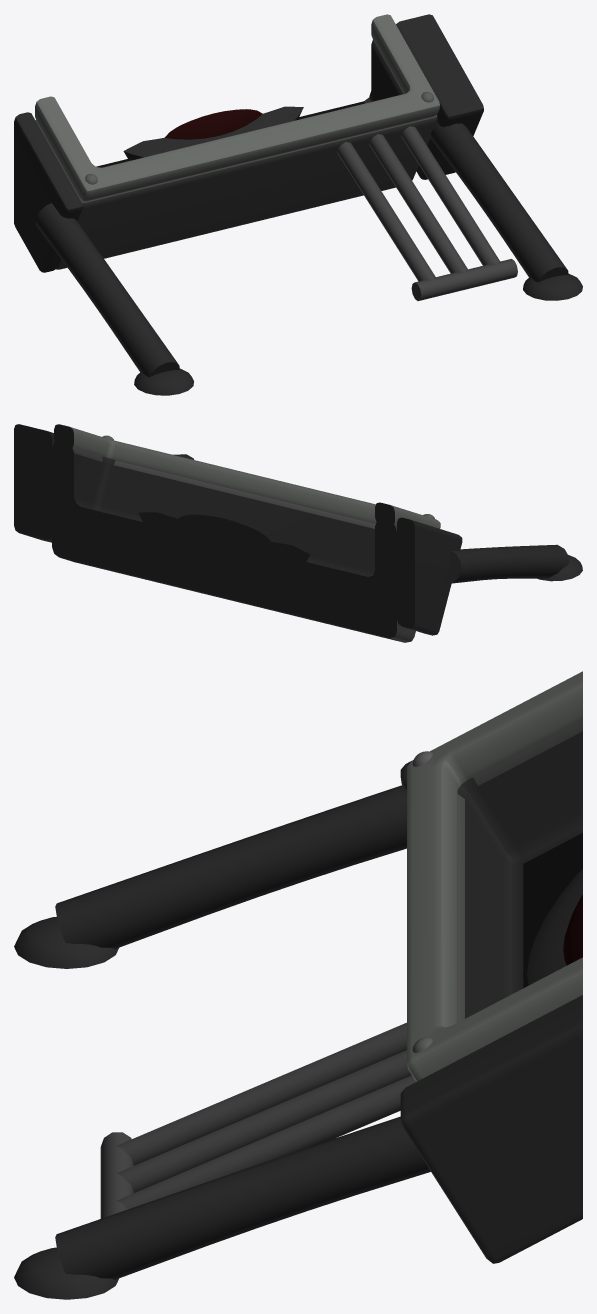
The model's file is cliff_bunker_base_193.glb.
3 views of the same model, one above another, from view 1: azimuth 30°, elevation 25°; view 2: azimuth 150°, elevation 25°; view 3: azimuth 270°, elevation 25° (orthographic). The views are drawn at different scales.
Parts seen in each view (by area): view 1: box.001, frame.001, leg0.001, leg1.001, bracket0.001, bracket1.001, grille_bar0.001, grille_bar1.001, grille_bar2.001, grille_rail2.001, eye_socket.001, eye.001 (+2 smaller); view 2: box.001, frame.001, bracket0.001, bracket1.001, leg0.001, eye.001, eye_socket.001, leg_pad0.001; view 3: bracket1.001, frame.001, box.001, leg1.001, leg0.001, grille_bar1.001, grille_bar0.001, grille_bar2.001, leg_pad1.001, leg_pad0.001, eye_socket.001, grille_rail2.001 (+1 smaller).
Part boxes in pixels (x1=…): box.001: x1=35, y1=40, x2=437, y2=269; frame.001: x1=35, y1=14, x2=439, y2=201; leg0.001: x1=35, y1=203, x2=179, y2=377; leg1.001: x1=430, y1=122, x2=568, y2=282; bracket0.001: x1=14, y1=112, x2=82, y2=272; bracket1.001: x1=396, y1=14, x2=483, y2=179; grille_bar0.001: x1=336, y1=142, x2=435, y2=281; grille_bar1.001: x1=369, y1=134, x2=467, y2=273; grille_bar2.001: x1=401, y1=126, x2=499, y2=265; grille_rail2.001: x1=411, y1=259, x2=517, y2=300; eye_socket.001: x1=123, y1=106, x2=303, y2=159; eye.001: x1=165, y1=109, x2=262, y2=139; box.001: x1=52, y1=441, x2=415, y2=642; frame.001: x1=54, y1=424, x2=440, y2=528; bracket0.001: x1=397, y1=517, x2=462, y2=635; bracket1.001: x1=14, y1=424, x2=54, y2=542; leg0.001: x1=445, y1=544, x2=569, y2=583; eye.001: x1=176, y1=514, x2=272, y2=551; eye_socket.001: x1=139, y1=512, x2=310, y2=562; leg_pad0.001: x1=537, y1=555, x2=582, y2=581; bracket1.001: x1=400, y1=995, x2=582, y2=1263; frame.001: x1=407, y1=671, x2=582, y2=1081; box.001: x1=457, y1=720, x2=582, y2=1022; leg1.001: x1=55, y1=1116, x2=430, y2=1279; leg0.001: x1=55, y1=785, x2=406, y2=949; grille_bar1.001: x1=116, y1=1050, x2=411, y2=1192; grille_bar0.001: x1=116, y1=1022, x2=406, y2=1165; grille_bar2.001: x1=116, y1=1075, x2=415, y2=1209; leg_pad1.001: x1=14, y1=1247, x2=118, y2=1299; leg_pad0.001: x1=14, y1=917, x2=118, y2=968; eye_socket.001: x1=527, y1=868, x2=582, y2=985; grille_rail2.001: x1=100, y1=1132, x2=134, y2=1218.
Size of the model in its own units: 21.15 by 7.72 by 13.45.
